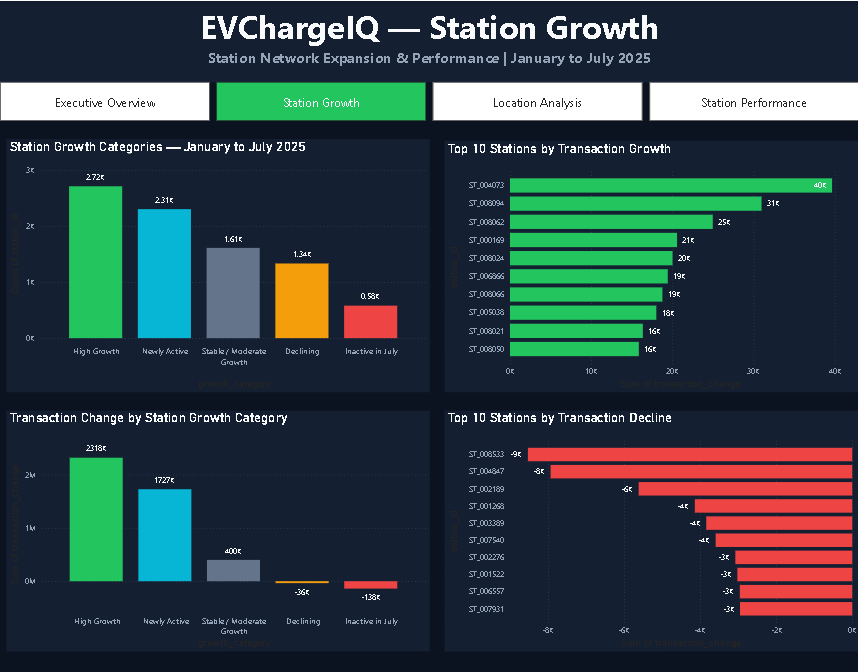

Layout of this report page (visuals, bound fields, positions):
{"tool":"powerbi","page":{"name":"Station Growth","canvas":[1280,1000],"ordinal":1},"visuals":[{"type":"clusteredColumnChart","title":"Station Growth Categories — January to July 2025","fields":{"Category":["station_growth.growth_category"],"Y":["CountNonNull(station_growth.station_id)"]},"box":[9.3,204.7,630.2,376.7],"z":0},{"type":"clusteredColumnChart","title":"Transaction Change by Station Growth Category","fields":{"Category":["station_growth.growth_category"],"Y":["Sum(station_growth.transaction_change)"]},"box":[9.3,609.3,630.2,358.1],"z":1000},{"type":"clusteredBarChart","title":"Top 10 Stations by Transaction Growth","fields":{"Y":["Sum(station_growth.transaction_change)"],"Category":["station_growth.station_id"]},"box":[660.5,207,618.6,374.4],"z":2000},{"type":"clusteredBarChart","title":"Top 10 Stations by Transaction Decline","fields":{"Y":["Sum(station_growth.transaction_change)"],"Category":["station_growth.station_id"]},"box":[660.5,609.3,618.6,358.1],"z":3000},{"type":"textbox","box":[0,0,1279.1,120.9],"z":4000},{"type":"pageNavigator","box":[0,120.9,1279.1,58],"z":5000}]}

Visuals, with their boxes in screenshot pixels (x1, y1, x2, y2), scaled from the page's 1280x1000 canvas onto the 858x672 screenshot:
"Station Growth Categories — January to July 2025" clusteredColumnChart: bbox(6, 138, 429, 391)
"Transaction Change by Station Growth Category" clusteredColumnChart: bbox(6, 409, 429, 650)
"Top 10 Stations by Transaction Growth" clusteredBarChart: bbox(443, 139, 857, 391)
"Top 10 Stations by Transaction Decline" clusteredBarChart: bbox(443, 409, 857, 650)
textbox: bbox(0, 0, 857, 81)
pageNavigator: bbox(0, 81, 857, 120)
